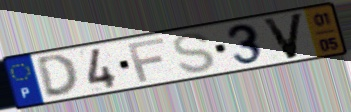3: (225, 21, 269, 69)
4: (85, 46, 119, 90)
D: (33, 52, 81, 99)
F: (124, 36, 166, 84)
S: (170, 31, 217, 75)
V: (259, 11, 307, 61)
